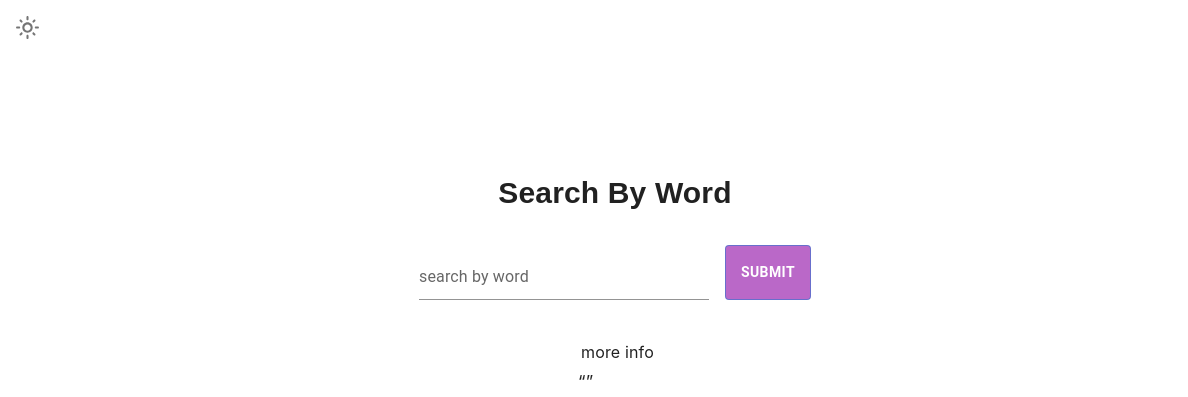
Dashboard › handles API request failure
The image size is (1188, 397).
In the field labelled "search by word": (564, 280) [419,261,709,300], type "can"
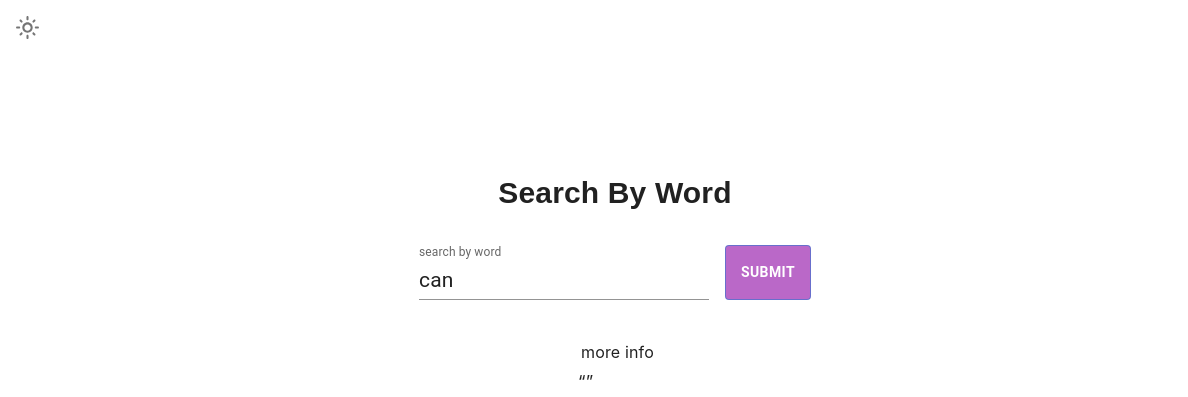
Click the button "Submit": (768, 272) [725,245,811,300]
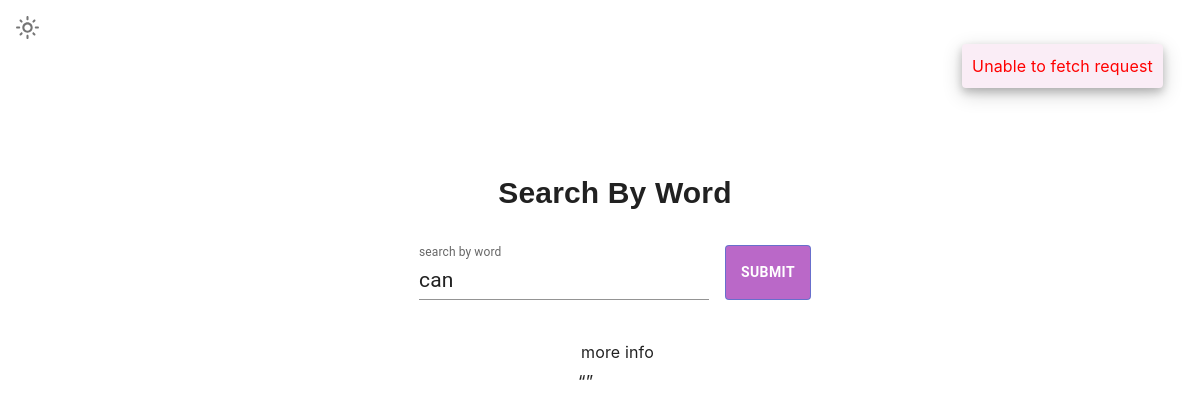
Check: the text "Unable to fetch request" is shown, box [962,44,1163,88]
